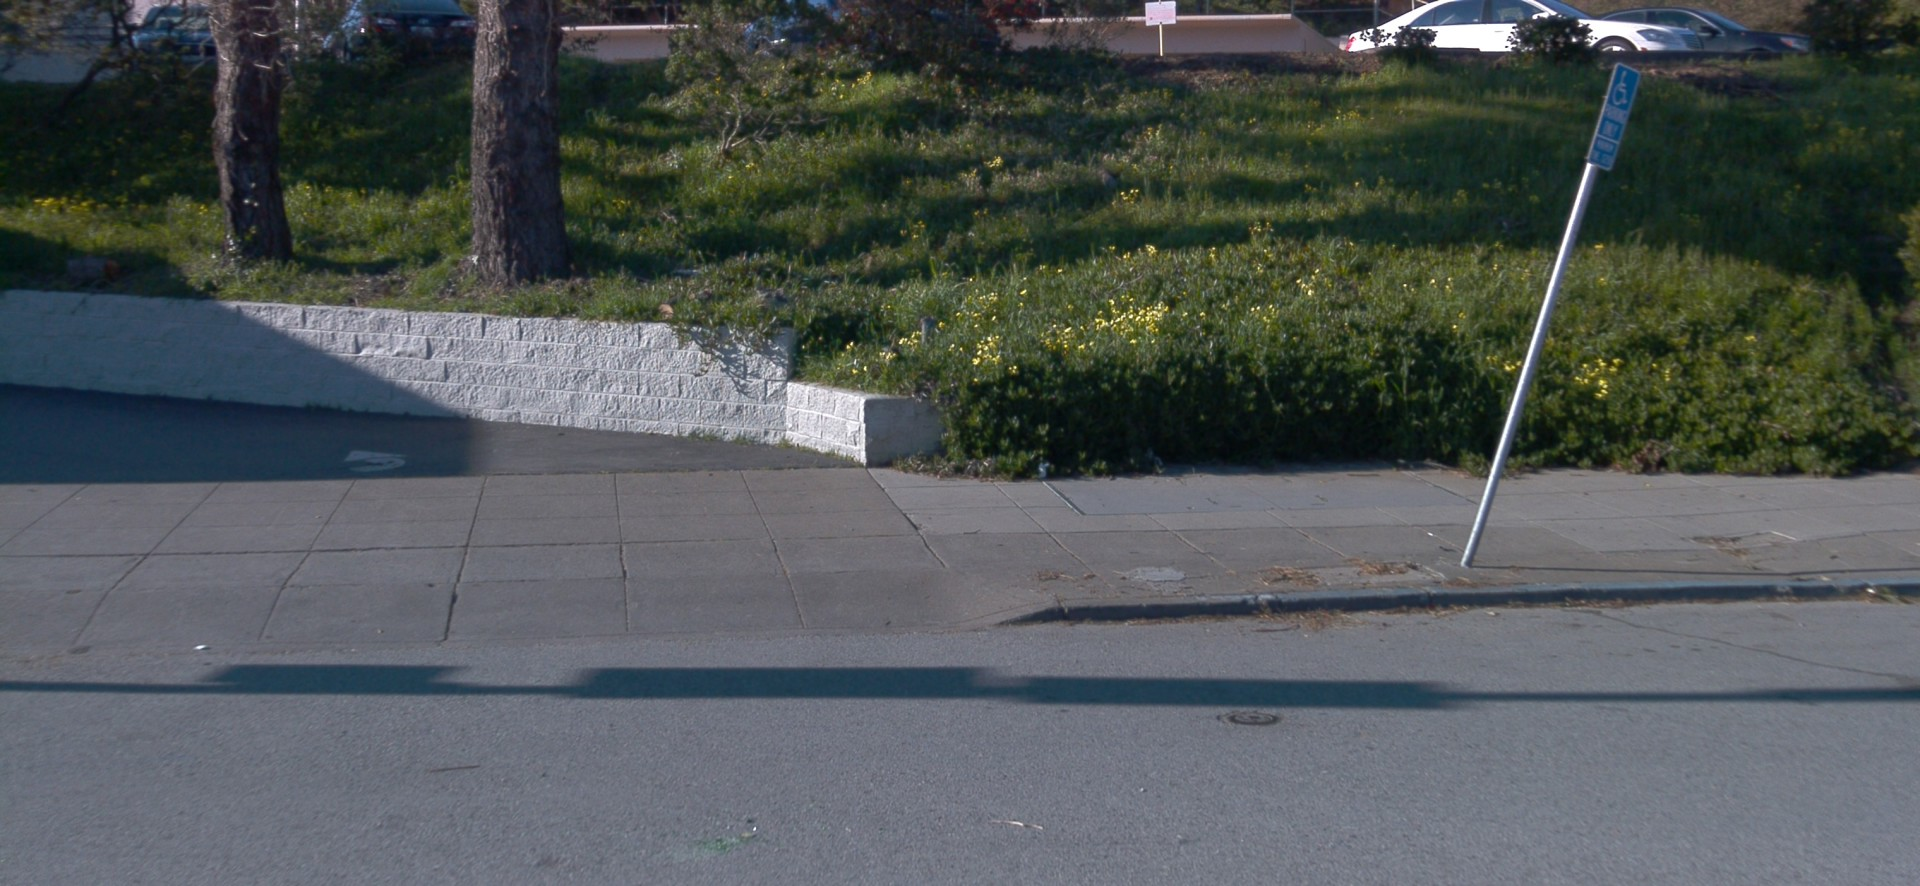TYPE_VEHICLE: (1343, 0, 1706, 54), (739, 0, 1002, 63), (1590, 5, 1821, 54), (319, 0, 477, 68), (119, 3, 217, 74)
